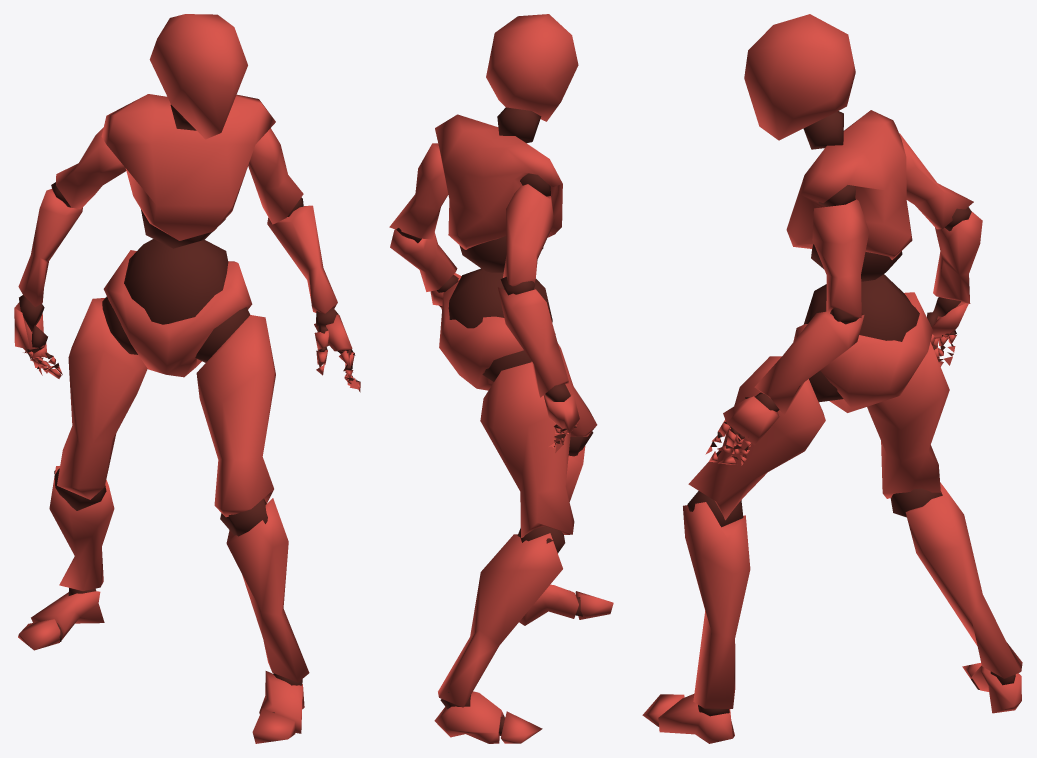
3 renders of one model, left to right at view 1: azimuth 30°, elevation 25°; view 2: azimuth 150°, elevation 25°; view 3: azimuth 270°, elevation 25°, orthographic. The views are drawn at different scales.
Visible parts, largest first — view 1: Beta_Surface; view 2: Beta_Surface; view 3: Beta_Surface.
Boxes of the visible parts, x1,y1,x2,y2 form: Beta_Surface: (14,14,360,743); Beta_Surface: (389,14,613,743); Beta_Surface: (642,14,1022,743).
Bounding box in the file's own units: 5.41 × 14.61 × 7.2.
